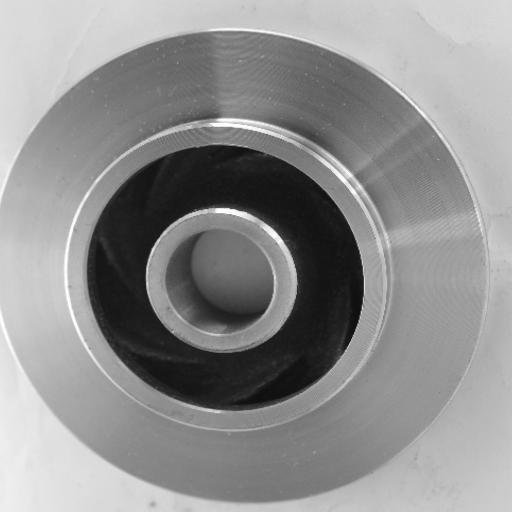polished_casting: (0, 29, 484, 504)
